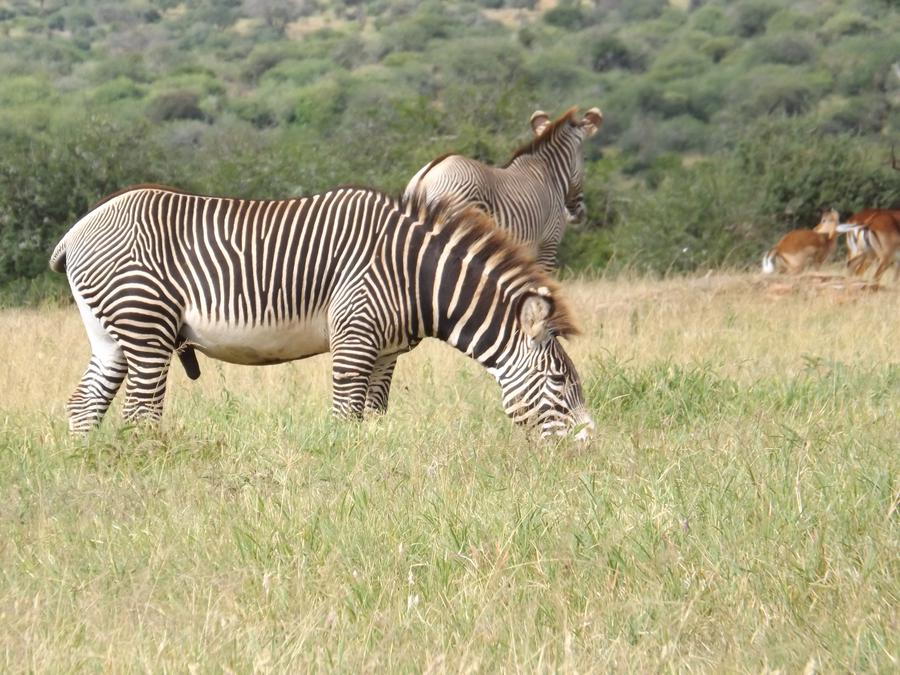zebra_grevys: (62, 188, 405, 353)
